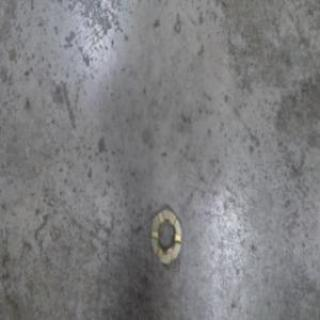Nuttrack_idkeyframe: (148, 202, 182, 266)
